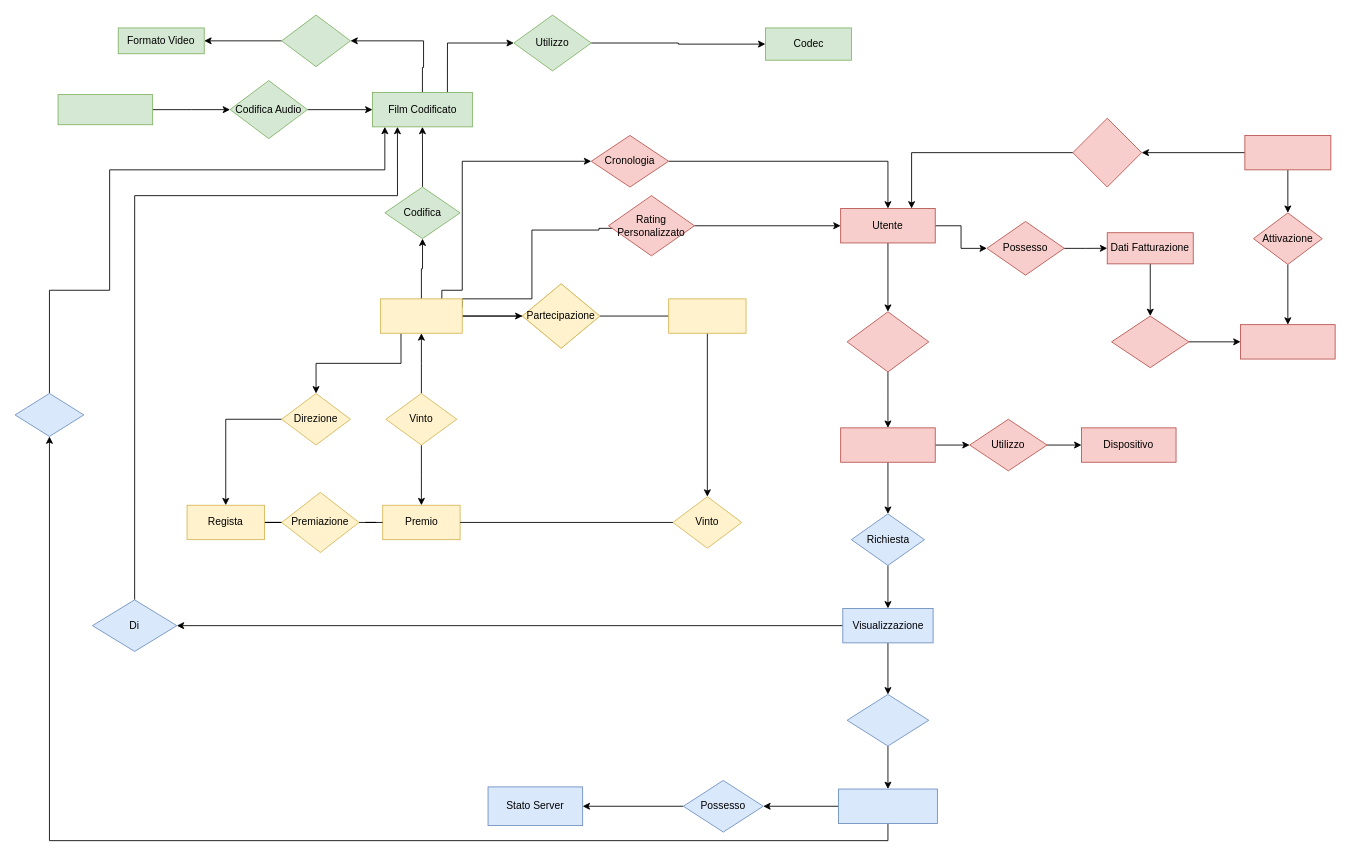
Image size: 1350x863. Some labels were removed from this diagram. The shapes that lost their labels are listed below. From the top down, each one's centre as x and y in pixels, then its label:
At (x=315, y=40): "Codifica Video".
At (x=105, y=109): "Formato Audio".
At (x=1107, y=152): "Acquisto".
At (x=1287, y=152): "Abbonamento".
At (x=421, y=315): "Film".
At (x=707, y=315): "Attori".
At (x=887, y=341): "Inizializzazione".
At (x=1150, y=341): "Pagamento".
At (x=1287, y=341): "Fattura".
At (x=49, y=414): "Cache".
At (x=887, y=444): "Connessione".
At (x=887, y=720): "Utilizzo di".
At (x=887, y=805): "Server".
